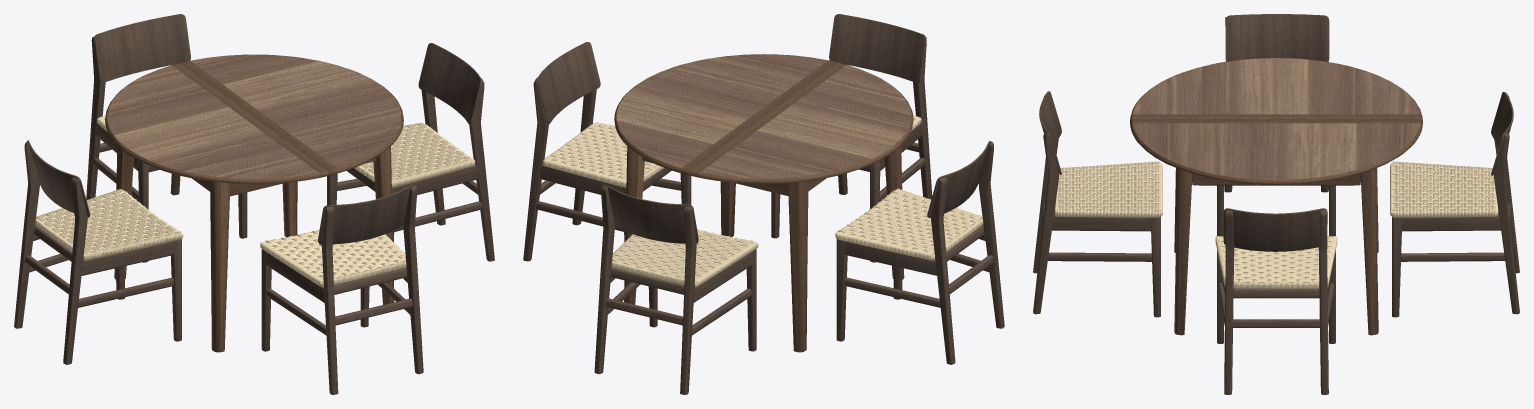
File: table-14.glb
The picture shows the model from 3 angles, left to right: view 1: azimuth 30°, elevation 25°; view 2: azimuth 150°, elevation 25°; view 3: azimuth 270°, elevation 25°; orthographic projection. The views are drawn at different scales.
Parts seen in each view (by area): view 1: 50563238_extendable_table:2, 50563243_chair:1.002, 50563238_extendable_table:1, 50563243_chair:1.003, 50563243_chair:1.001, 50563243_chair:1, 50563243_chair:2.003, 50563243_chair:2.002, 50563243_chair:2.001; view 2: 50563238_extendable_table:2, 50563243_chair:1, 50563238_extendable_table:1, 50563243_chair:1.003, 50563243_chair:1.001, 50563243_chair:1.002, 50563243_chair:2.003, 50563243_chair:2, 50563243_chair:2.001; view 3: 50563238_extendable_table:2, 50563238_extendable_table:1, 50563243_chair:1.001, 50563243_chair:1, 50563243_chair:1.002, 50563243_chair:2, 50563243_chair:2.002, 50563243_chair:1.003, 50563243_chair:2.001.
Part boxes in pixels (left/top/right/bottom): 50563238_extendable_table:2: left=107, top=54, right=401, bottom=178; 50563243_chair:1.002: left=261, top=184, right=423, bottom=394; 50563238_extendable_table:1: left=105, top=54, right=403, bottom=352; 50563243_chair:1.003: left=14, top=140, right=181, bottom=364; 50563243_chair:1.001: left=327, top=43, right=494, bottom=261; 50563243_chair:1: left=86, top=14, right=247, bottom=262; 50563243_chair:2.003: left=35, top=189, right=183, bottom=260; 50563243_chair:2.002: left=260, top=229, right=406, bottom=286; 50563243_chair:2.001: left=354, top=122, right=475, bottom=187; 50563238_extendable_table:2: left=616, top=54, right=910, bottom=178; 50563243_chair:1: left=594, top=184, right=756, bottom=394; 50563238_extendable_table:1: left=614, top=54, right=913, bottom=352; 50563243_chair:1.003: left=836, top=141, right=1004, bottom=364; 50563243_chair:1.001: left=523, top=42, right=691, bottom=261; 50563243_chair:1.002: left=771, top=14, right=932, bottom=262; 50563243_chair:2.003: left=835, top=188, right=983, bottom=260; 50563243_chair:2: left=611, top=228, right=758, bottom=286; 50563243_chair:2.001: left=543, top=122, right=663, bottom=187; 50563238_extendable_table:2: left=1132, top=58, right=1420, bottom=184; 50563238_extendable_table:1: left=1130, top=58, right=1422, bottom=335; 50563243_chair:1.001: left=1217, top=208, right=1335, bottom=394; 50563243_chair:1: left=1392, top=92, right=1519, bottom=317; 50563243_chair:1.002: left=1033, top=91, right=1160, bottom=317; 50563243_chair:2: left=1390, top=161, right=1498, bottom=217; 50563243_chair:2.002: left=1054, top=161, right=1162, bottom=217; 50563243_chair:1.003: left=1217, top=14, right=1335, bottom=236; 50563243_chair:2.001: left=1215, top=236, right=1337, bottom=288.
Size of the model in its own units: 1.91 by 0.78 by 1.91.
4 materials, 4 textured.
